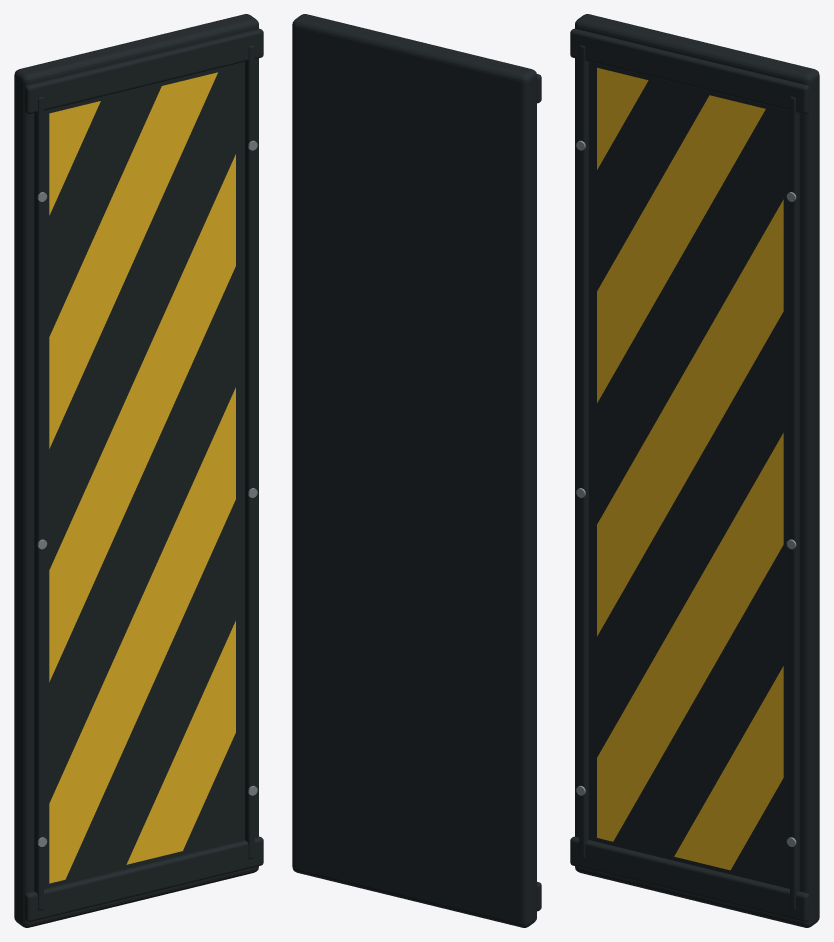
The model's file is SM_WS_RubberFlatGuard_900.fbx.
The picture shows the model from 3 angles, left to right: view 1: azimuth 30°, elevation 25°; view 2: azimuth 150°, elevation 25°; view 3: azimuth 330°, elevation 25°; orthographic projection.
Visible parts, largest first — view 1: SM_WS_RubberFlatGuard_900; view 2: SM_WS_RubberFlatGuard_900; view 3: SM_WS_RubberFlatGuard_900.
Boxes of the visible parts, x1,y1,x2,y2 form: SM_WS_RubberFlatGuard_900: (14,14,263,927); SM_WS_RubberFlatGuard_900: (292,14,541,927); SM_WS_RubberFlatGuard_900: (570,14,819,927).
Bounding box in the file's own units: 0.25 × 0.0325 × 0.86.
